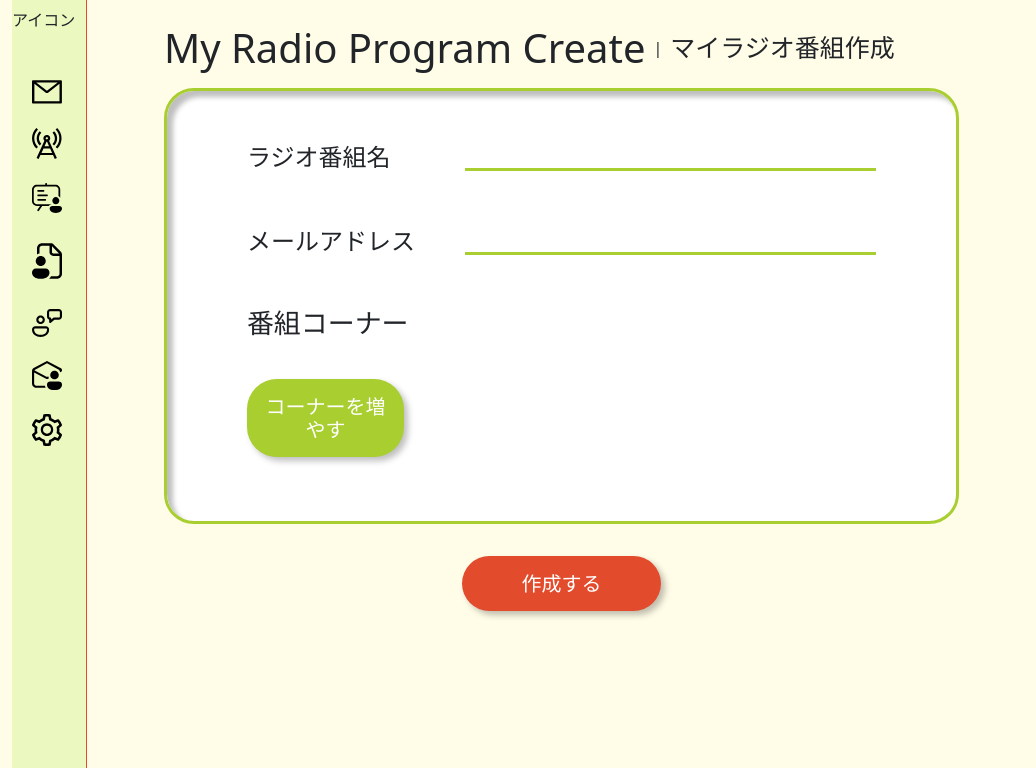
Scenario: マイラジオ番組作成 › ラジオ番組名を入れないとバリデーションメッセージが表示される
Type "test@example.com" into the field with test id "my-radio-program-input-email" at (670, 241), box [465,227,876,255]
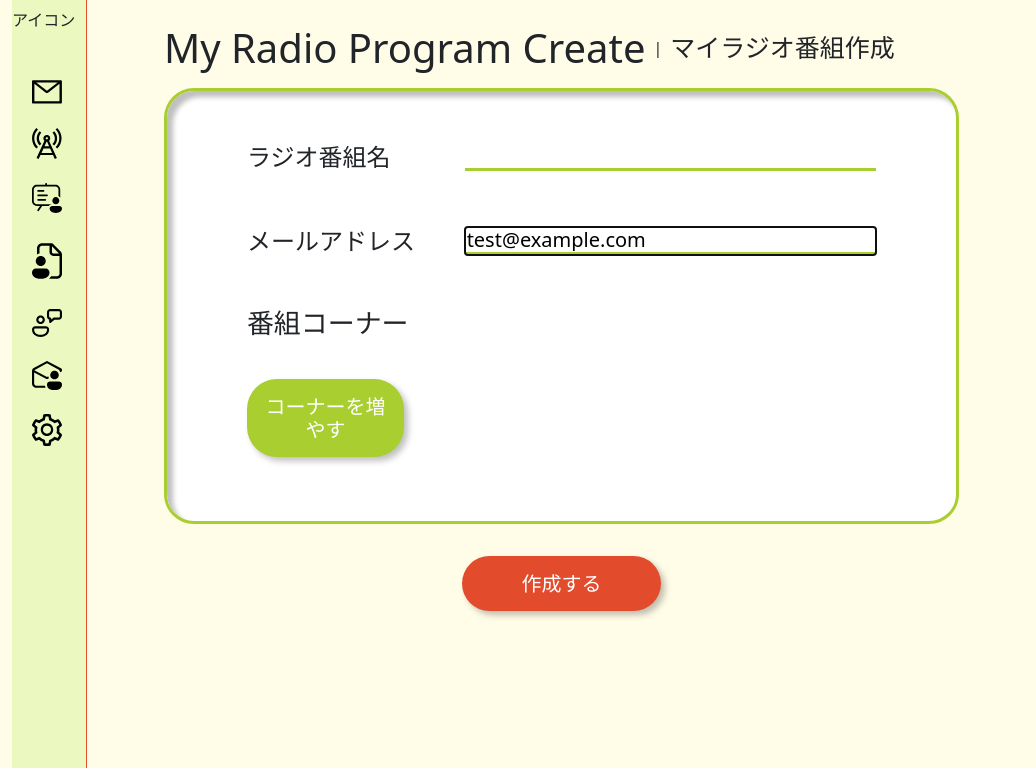
Click the button with test id "my-radio-program-button-create" at (562, 584), box [462,556,661,611]
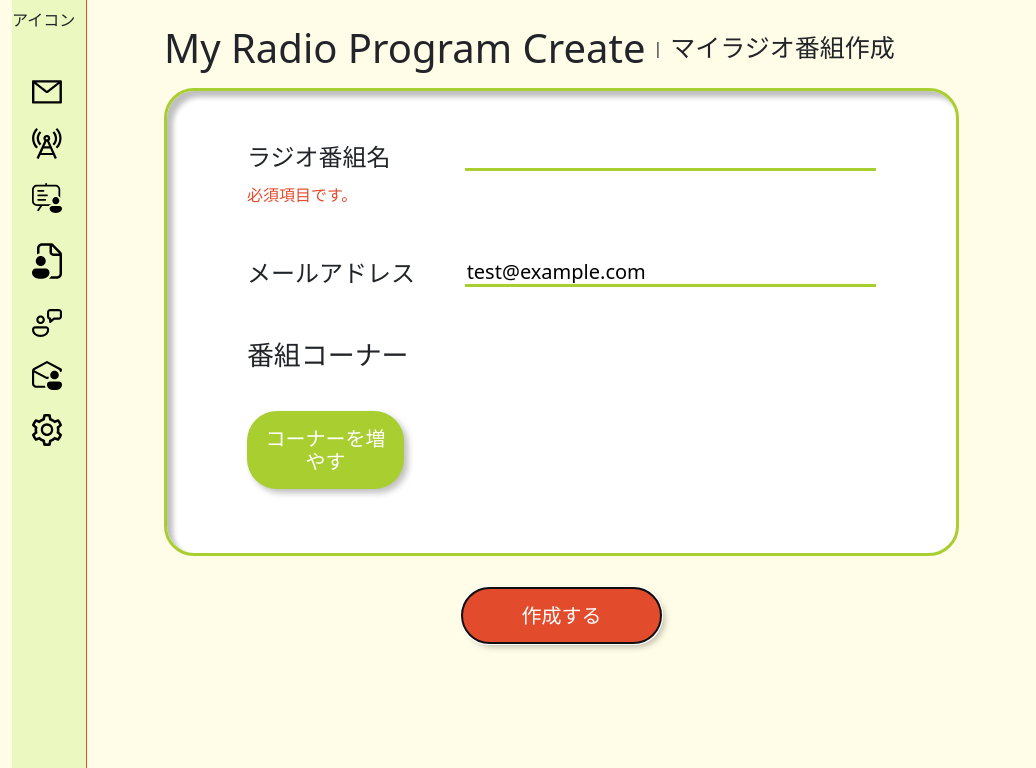
Check: the text "必須項目です。" is shown, box [247,184,357,206]
